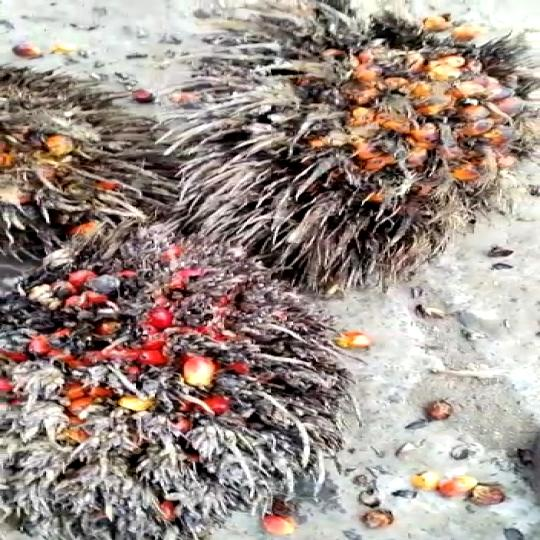terlalu masak: (0, 224, 361, 536), (140, 0, 522, 291)
